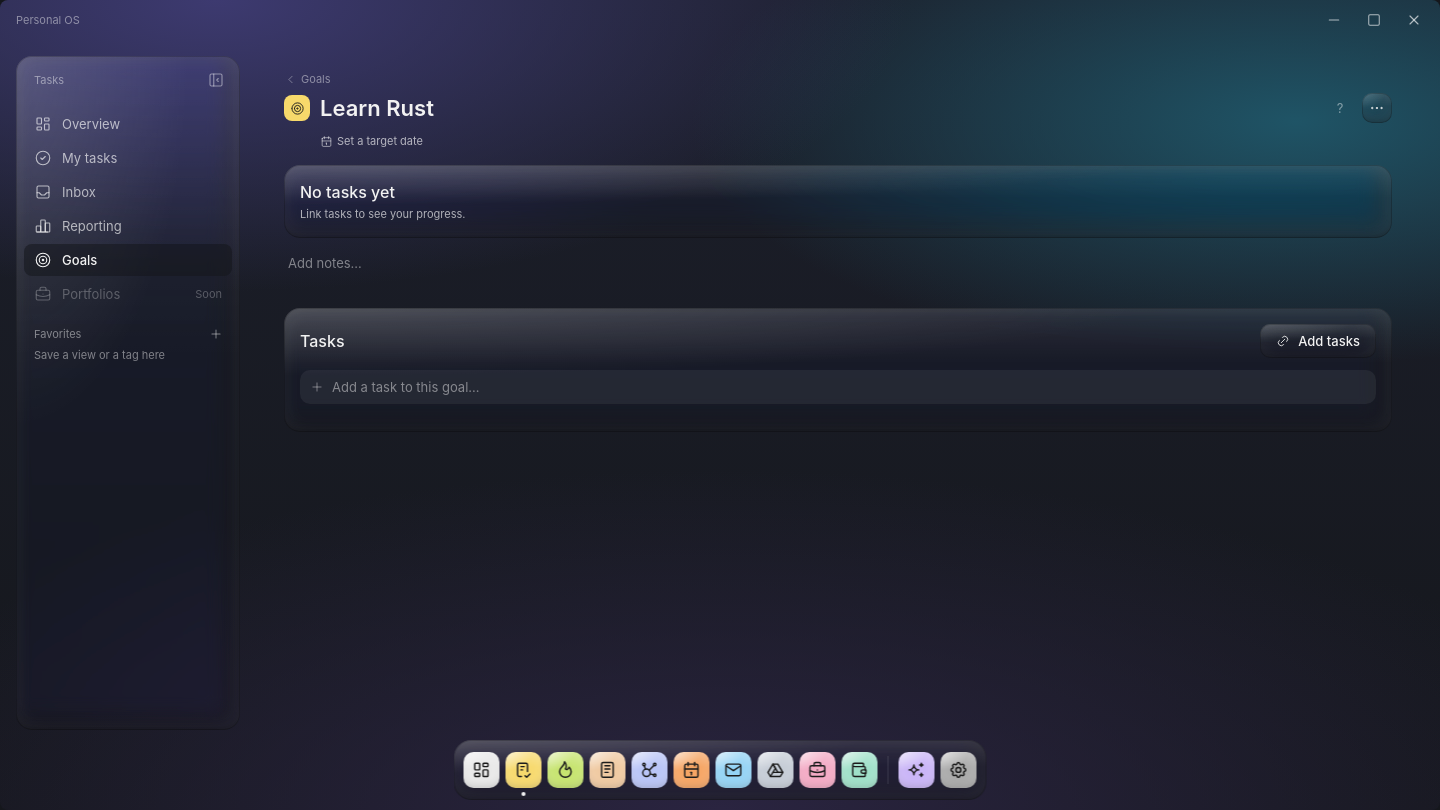
Test: the Add tasks popover › says "No open tasks. Type above to add one to this goal." when there are none
Expected: the field named "Goal title" is shown, [316,94,1318,122]
Click the button "Add tasks". click: (1318, 341)
box: [1260,324,1376,358]
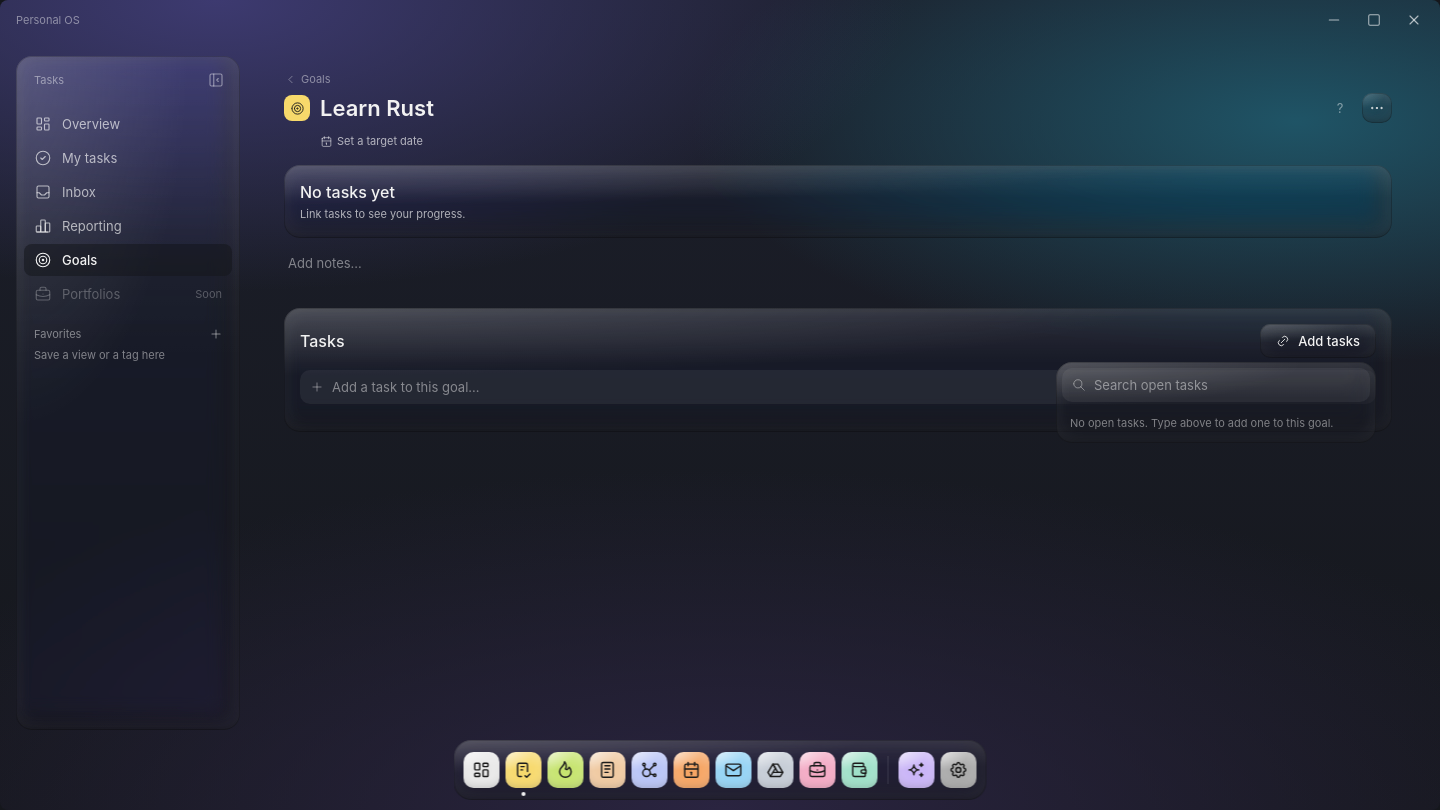
Expected: the field labelled "Search open tasks" is shown, [1094,376,1360,394]
Expected: the text "No open tasks. Type above to add one to this goal." is shown, [1070,416,1334,430]
